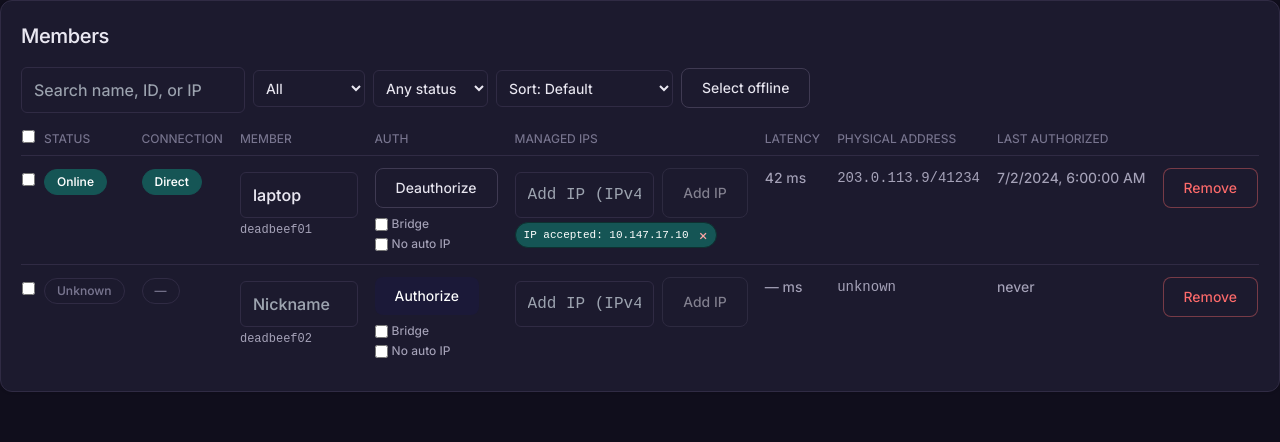
Scenario: MemberTable › surfaces a controller error when Authorize PATCH fails
The image size is (1280, 442).
Check: the text "deadbeef02" is shown, box left=240, top=332, right=312, bottom=346
Click the button "Authorize".
click(427, 296)  # box left=375, top=277, right=479, bottom=315
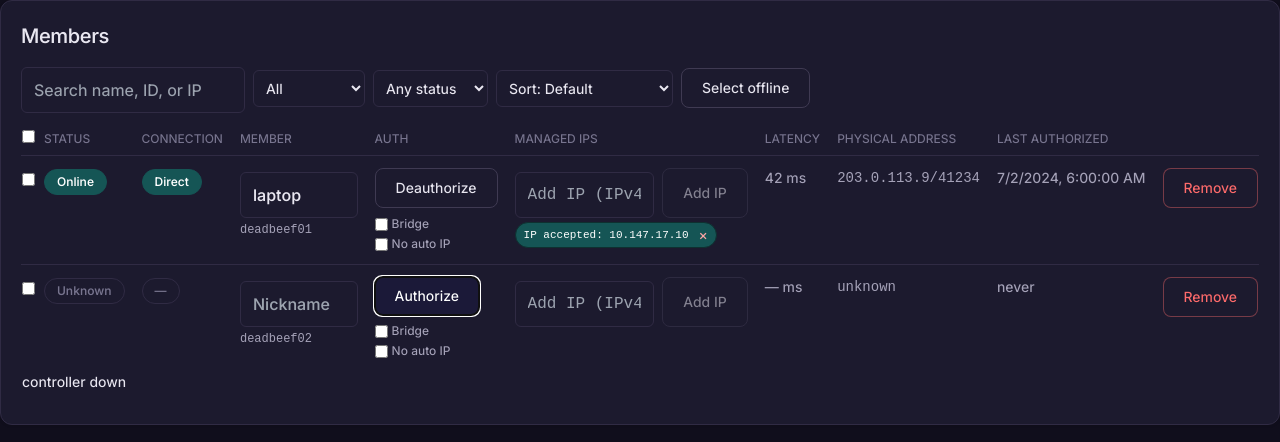
Check: the message reads "controller down", box left=22, top=373, right=126, bottom=390
